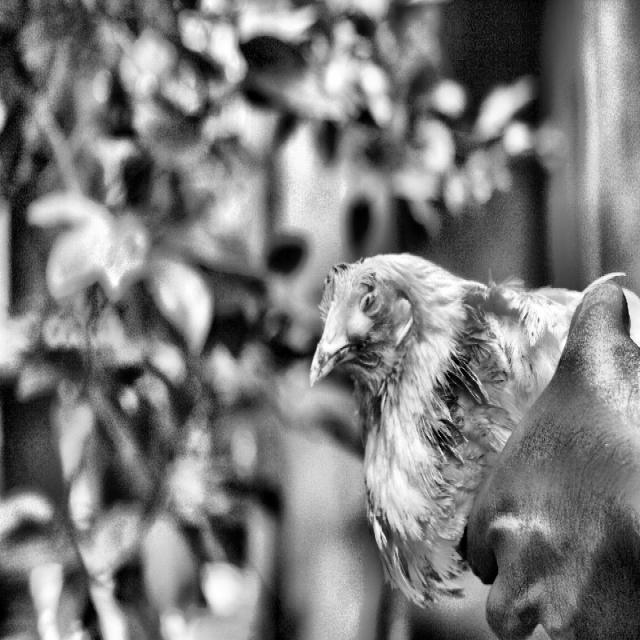Coryza: (297, 224, 450, 441)
